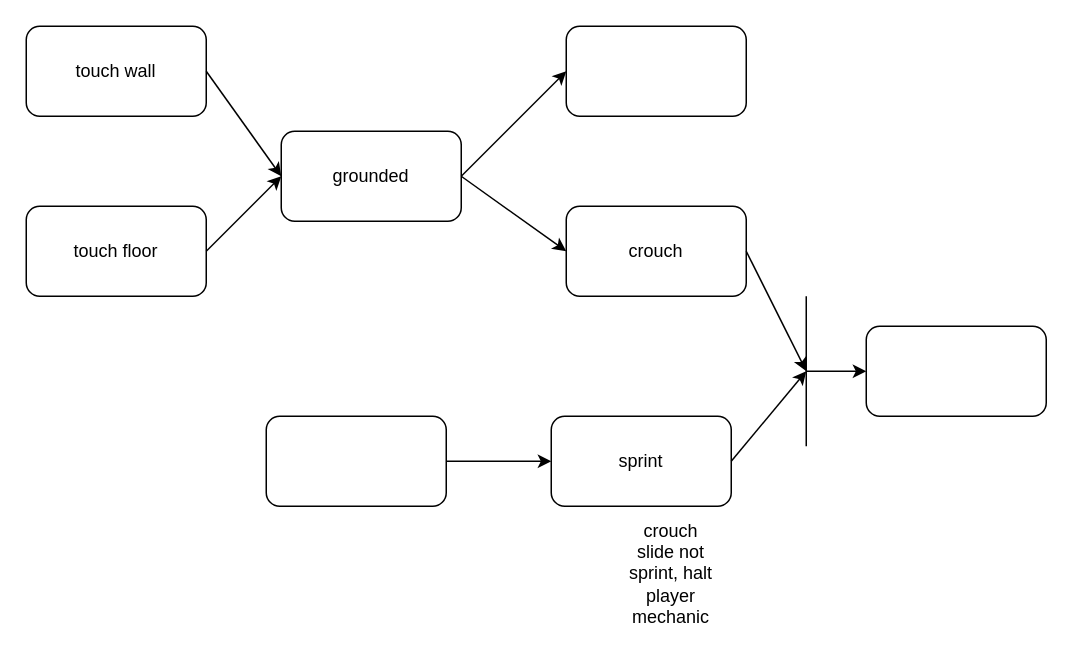
This 1073x654 diagram has some shape labels left out. The shapes that lost their labels are listed below. From the top down, each one's box as (x1, y1, x2, y2) in pixels, then its label:
(565, 25, 746, 116): jump
(865, 325, 1046, 416): slide
(265, 415, 446, 506): move
